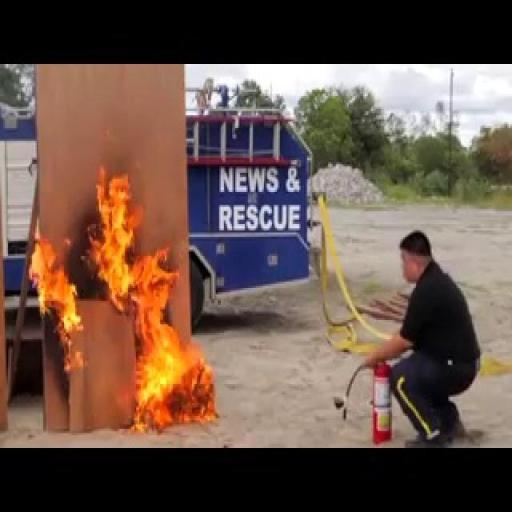smoke: (5, 117, 224, 436)
